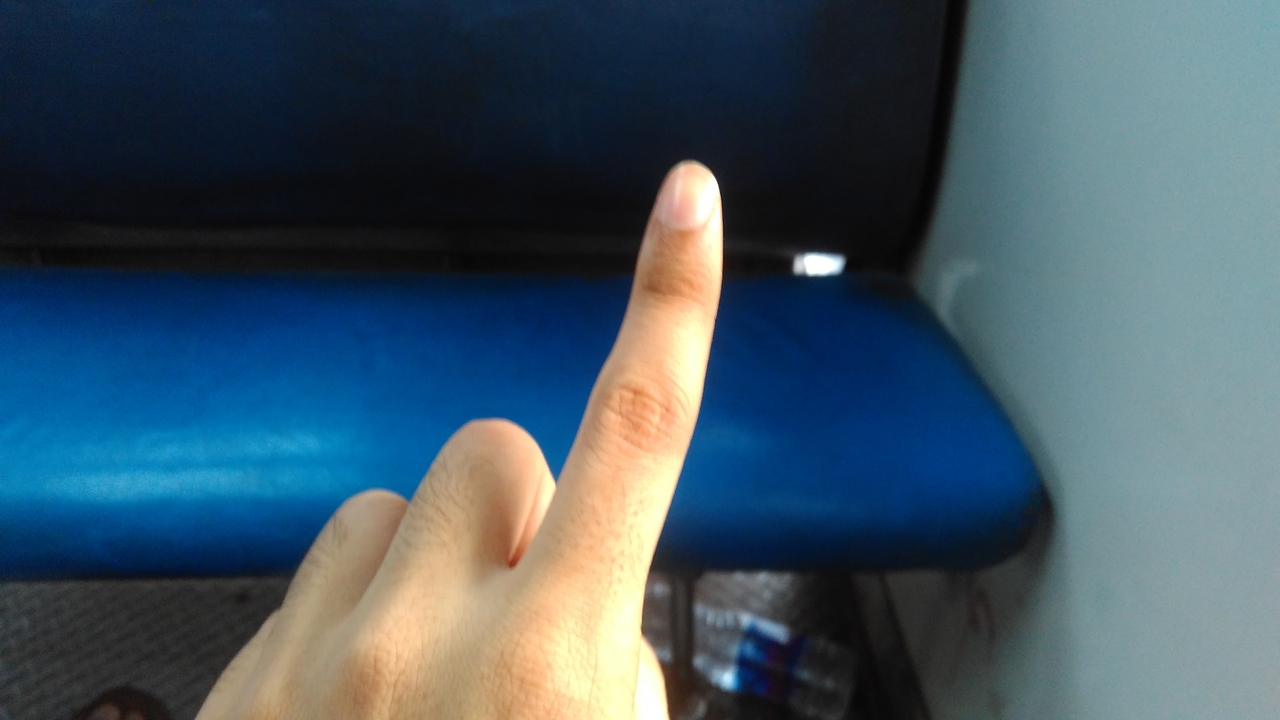fingertip: (650, 156, 724, 230)
